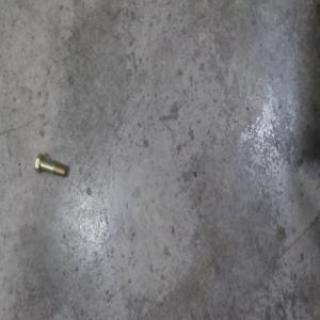Bolttrack_idkeyframe: (34, 151, 66, 180)
